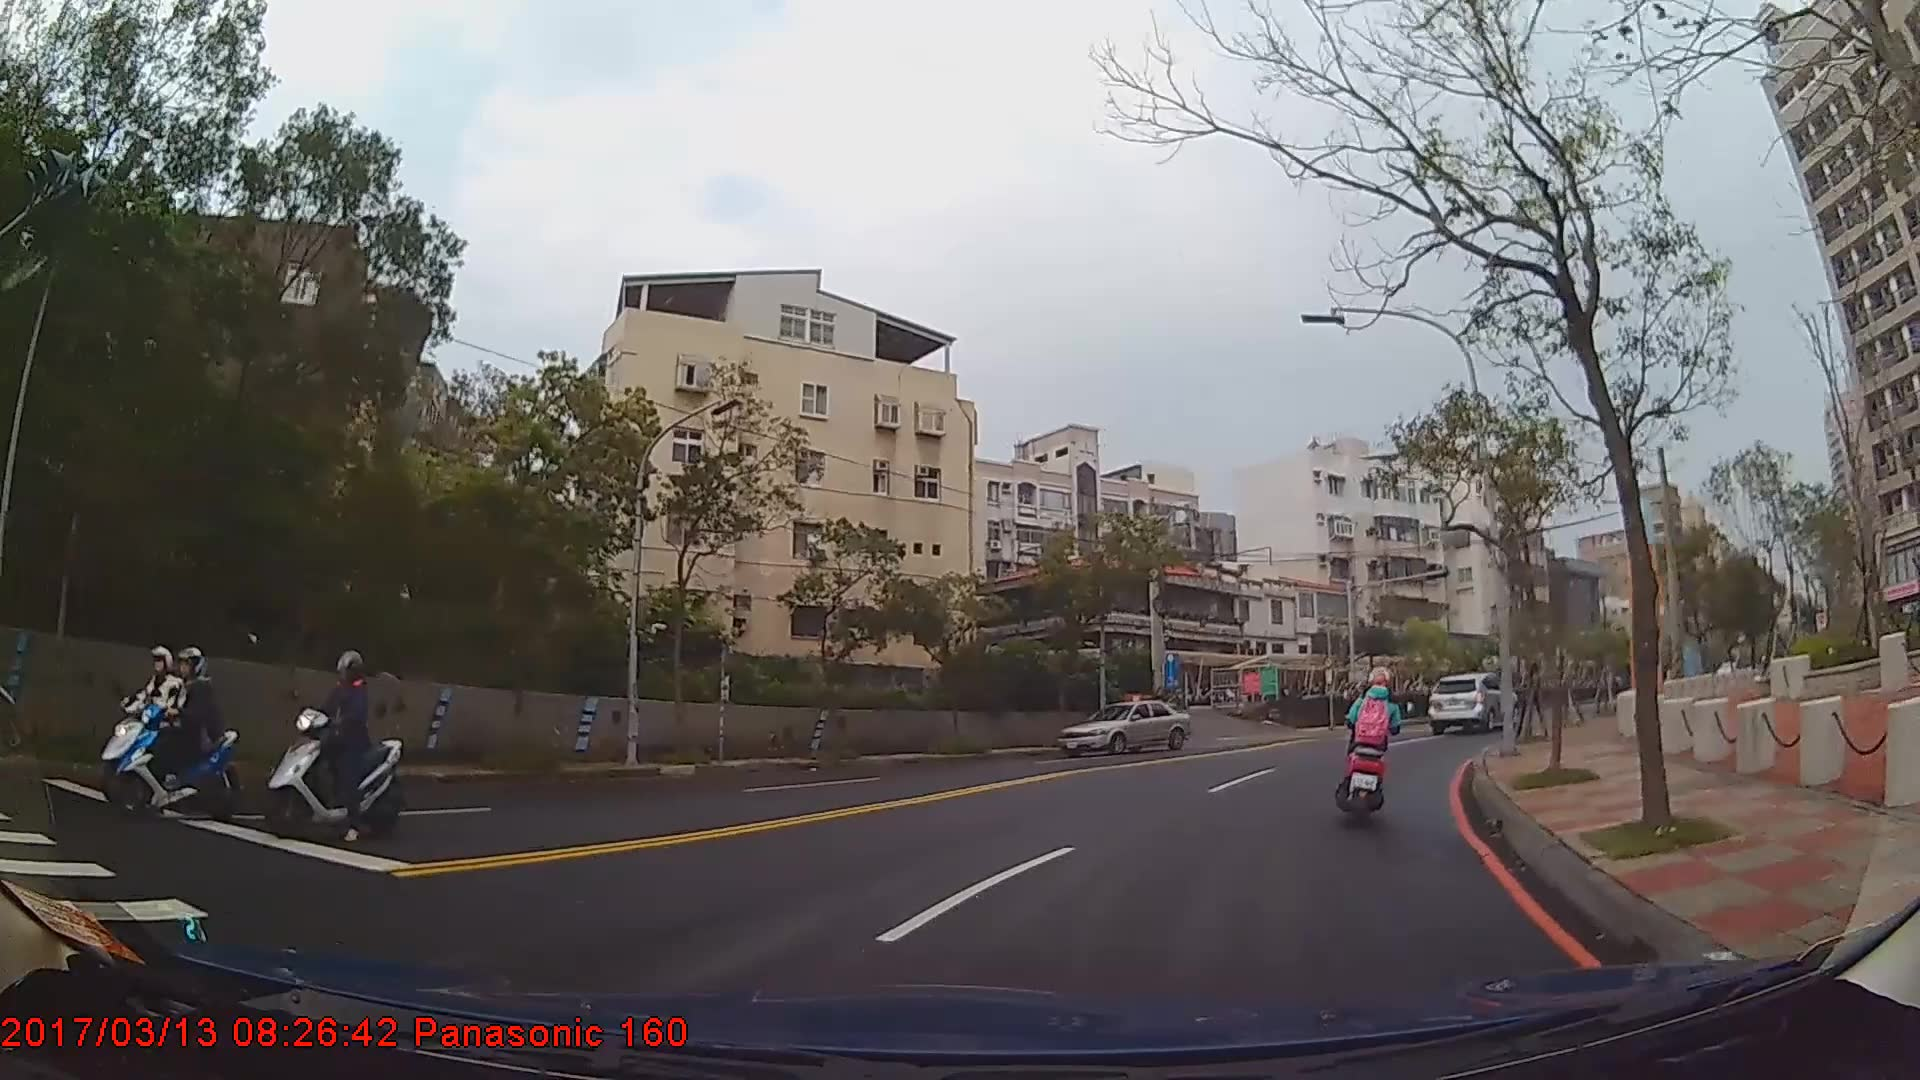rider: (268, 646, 402, 843), (120, 646, 230, 816), (105, 644, 201, 796), (1337, 668, 1401, 812)
vehicle: (1057, 698, 1188, 755), (1428, 670, 1519, 733)
